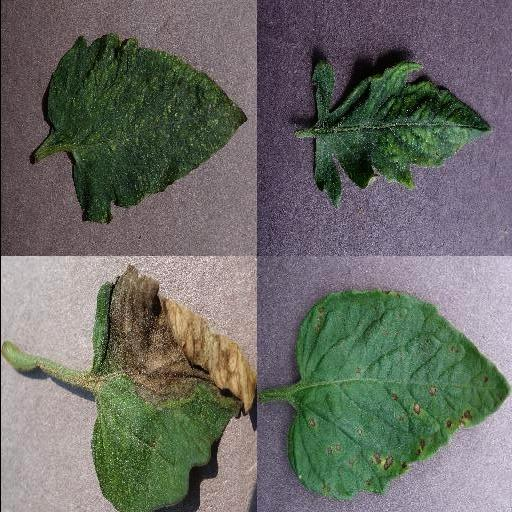Late Blight: (90, 266, 256, 512)
Mosaic Virus: (311, 57, 493, 211)
Septoria: (285, 292, 509, 500)
Spider Mites: (44, 35, 248, 225)
